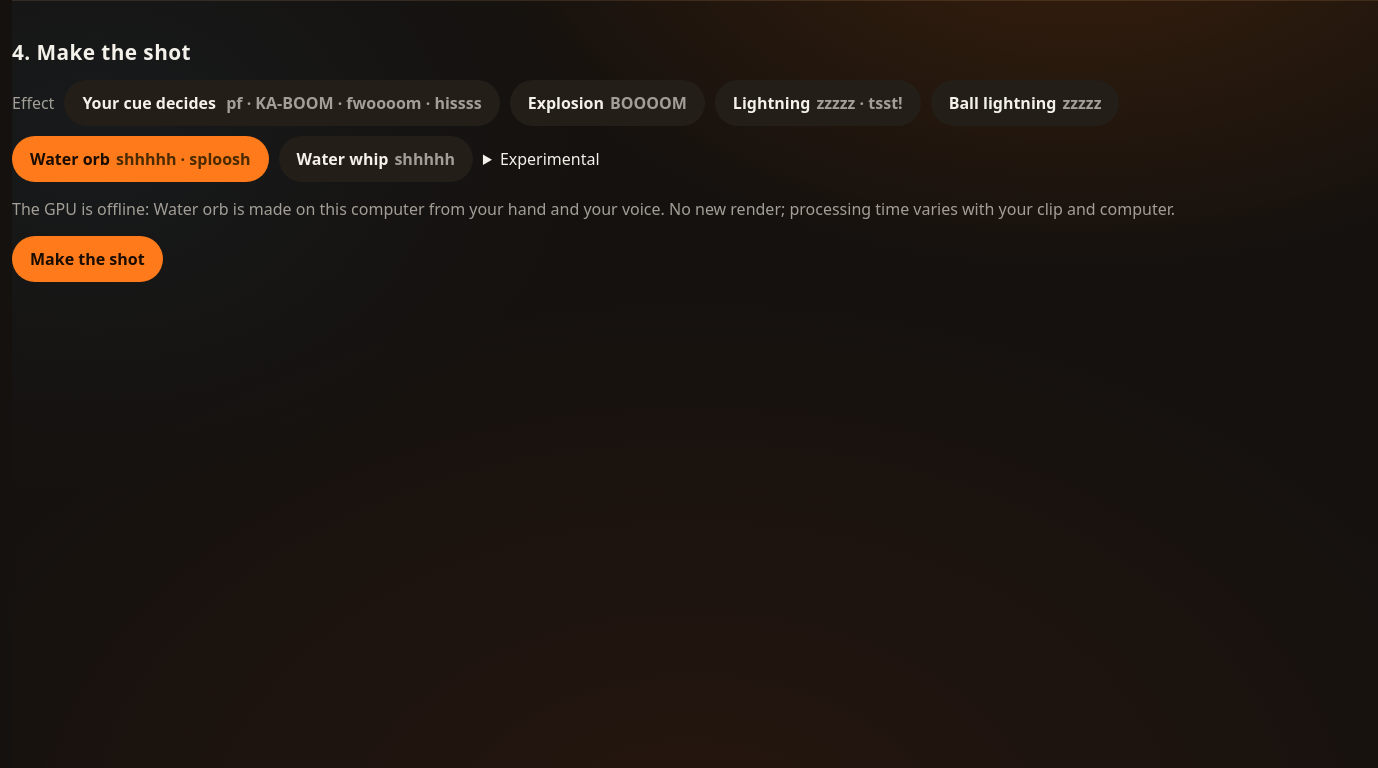
ShotPanel offline sample hand › explains variable processing time for other offline hand effects
Click the 2nd radio button: (607, 103) [510,80,705,126]
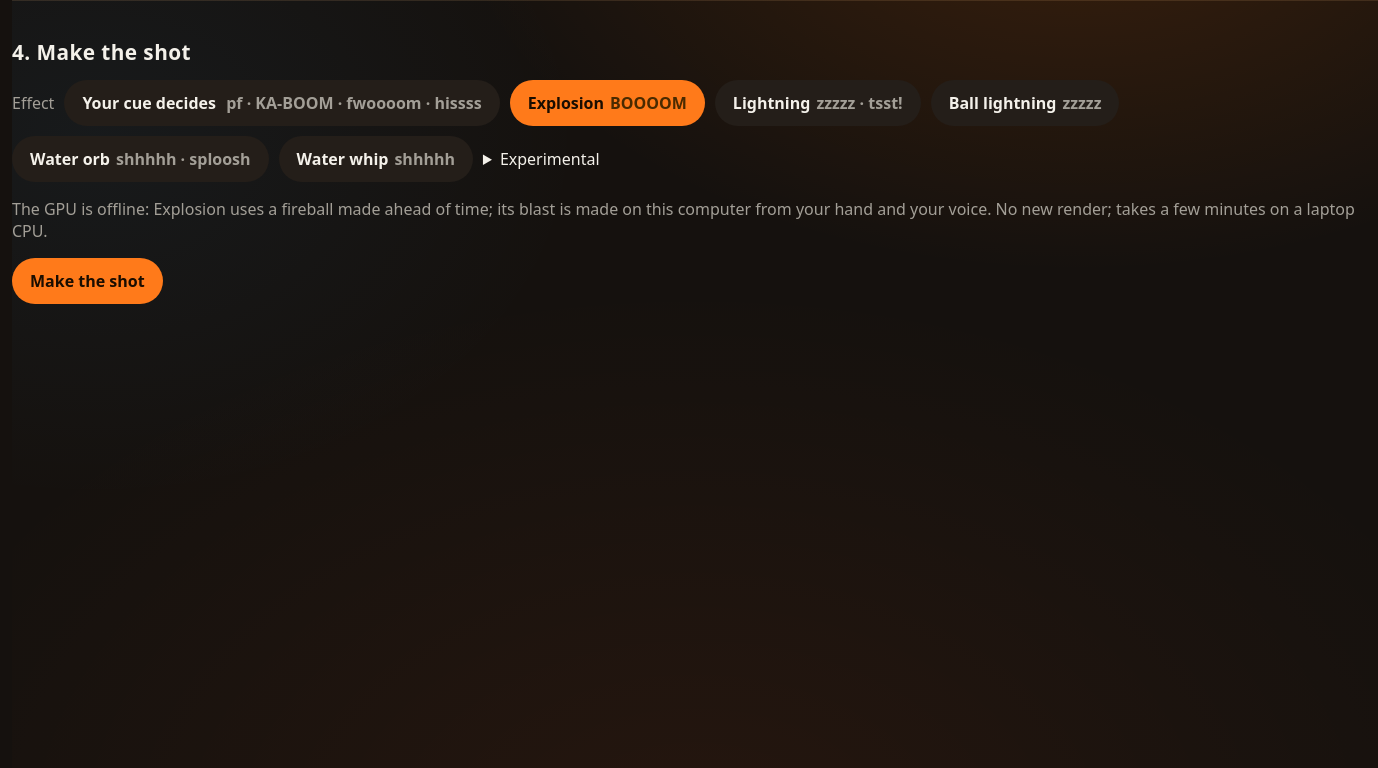
Result: the text "takes a few minutes on a laptop CPU" is shown at [12,198,1355,242]
Click the 5th radio button: (140, 159) [12,136,269,182]
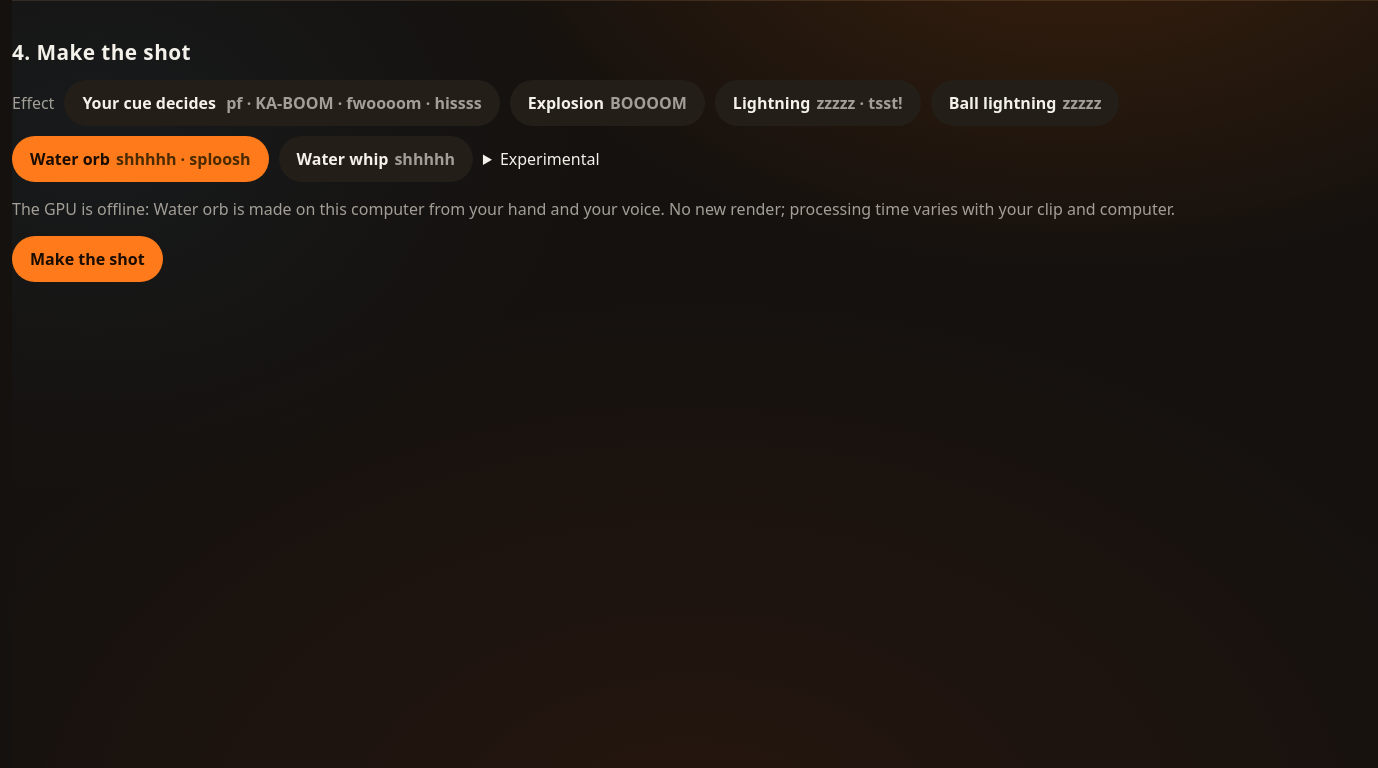
Result: the text "No new render; processing time varies with your clip and computer" is shown at [669,198,1175,220]
